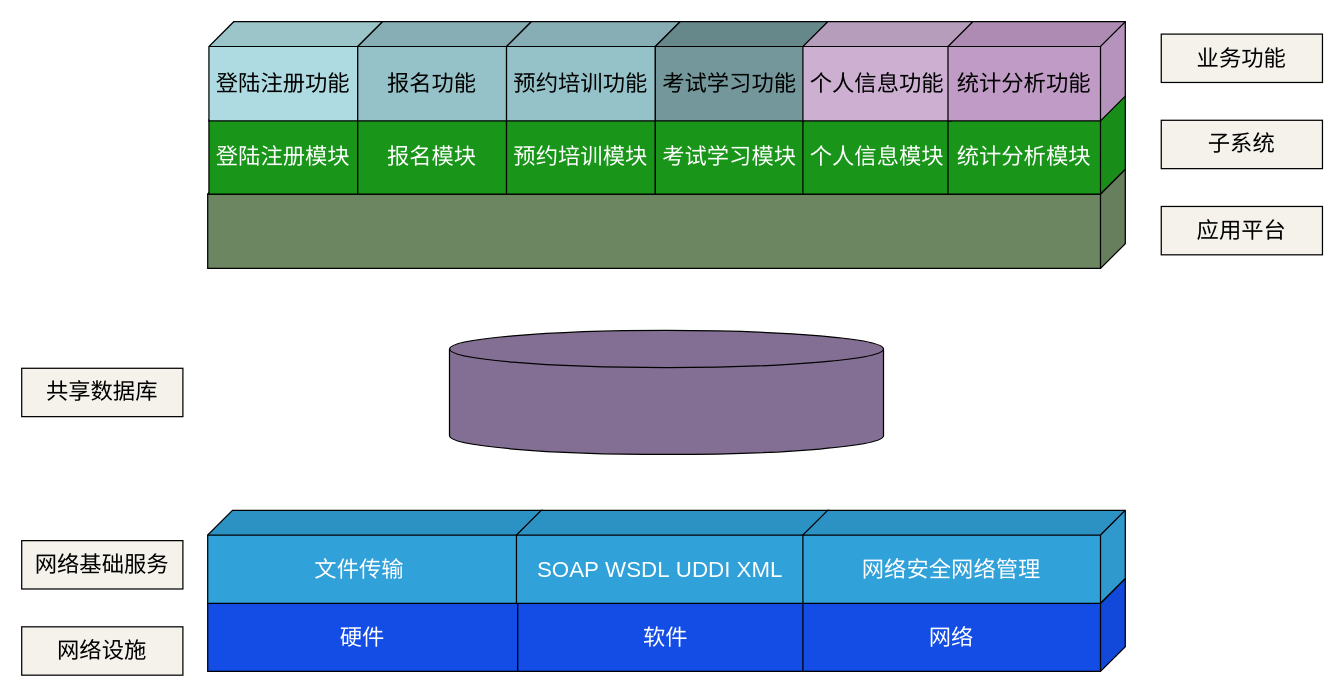
The diagram is 1344 pixels wide and 697 high, and some of its shapes have lost their labels. The centre of each missing label's shape, as x and y in pixels:
应用服务平台: [665,218]
数据库MySQL: [666,391]
